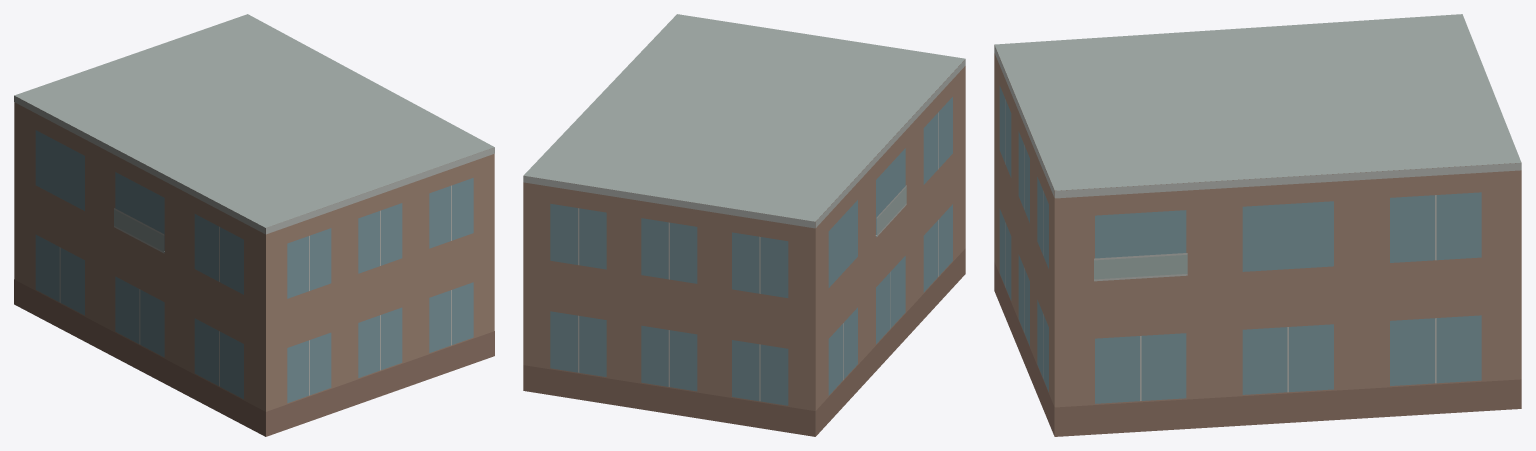
Rendered from survey-upis-32491922.glb.
3 views of the same model, side by side, from view 1: azimuth 30°, elevation 25°; view 2: azimuth 150°, elevation 25°; view 3: azimuth 270°, elevation 25° (orthographic). The views are drawn at different scales.
Parts seen in each view (by area): view 1: survey-upis-32491922.tmp; view 2: survey-upis-32491922.tmp; view 3: survey-upis-32491922.tmp.
Boxes of the visible parts, x1,y1,x2,y2 form: survey-upis-32491922.tmp: [14, 14, 494, 436]; survey-upis-32491922.tmp: [523, 14, 965, 436]; survey-upis-32491922.tmp: [994, 14, 1521, 436].
Size of the model in its own units: 12.03 by 7.8 by 15.16.
